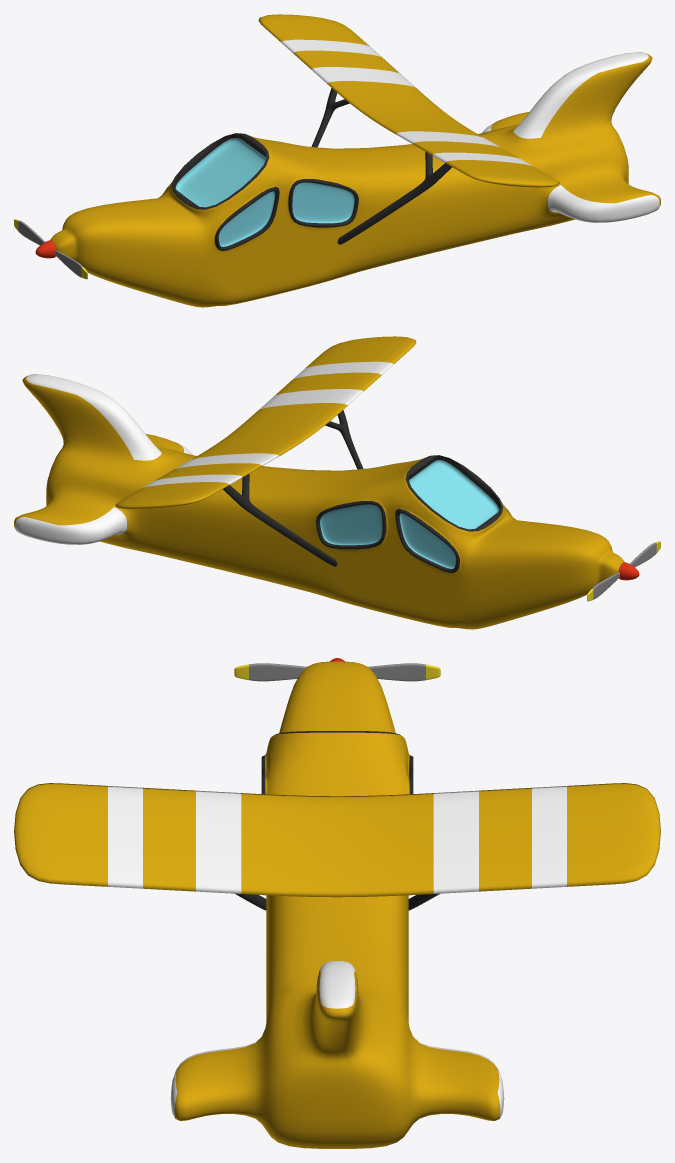
Rendered from styloo-planeazer-002.glb.
3 views of the same model, one above another, from view 1: azimuth 30°, elevation 25°; view 2: azimuth 150°, elevation 25°; view 3: azimuth 270°, elevation 25° (orthographic). The views are drawn at different scales.
Visible parts, largest first — view 1: Cube.023, Cube.025; view 2: Cube.023, Cube.025; view 3: Cube.023, Cube.025.
Boxes of the visible parts, x1,y1,x2,y2 form: Cube.023: [50, 14, 660, 307]; Cube.025: [14, 219, 87, 279]; Cube.023: [14, 336, 624, 629]; Cube.025: [587, 541, 660, 601]; Cube.023: [14, 661, 660, 1148]; Cube.025: [234, 658, 440, 681].
Bounding box in the file's own units: 8.3 × 2.02 × 5.42.
1 material, 1 textured.
